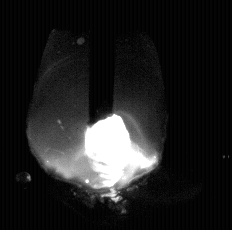arame: (88, 0, 115, 126)
poca: (26, 0, 166, 230)
